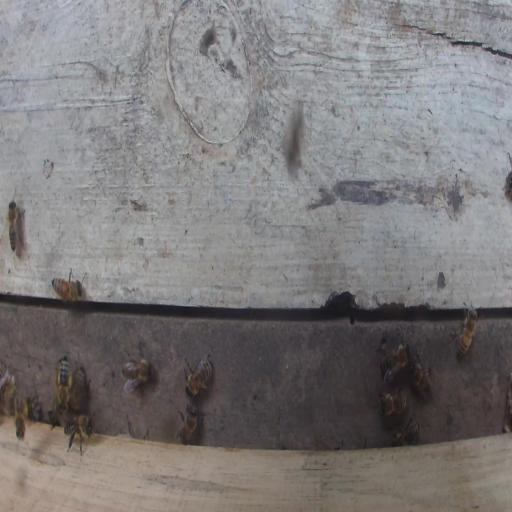bee: (121, 345, 151, 391), (379, 340, 410, 384), (184, 355, 215, 398), (455, 301, 478, 358), (50, 266, 86, 302), (64, 413, 94, 456), (409, 353, 431, 401), (177, 403, 199, 444), (391, 416, 419, 447), (70, 365, 89, 410), (57, 355, 72, 412), (378, 390, 408, 417), (14, 390, 28, 439), (8, 198, 20, 252), (27, 394, 42, 421), (47, 409, 62, 429)
